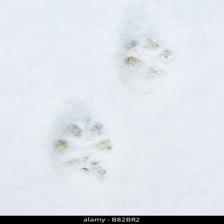fox: (48, 115, 118, 184), (115, 33, 175, 88)
